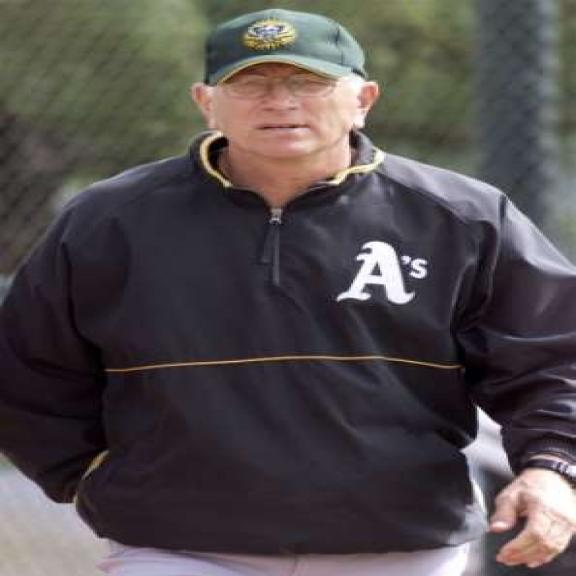face: (189, 70, 393, 159)
